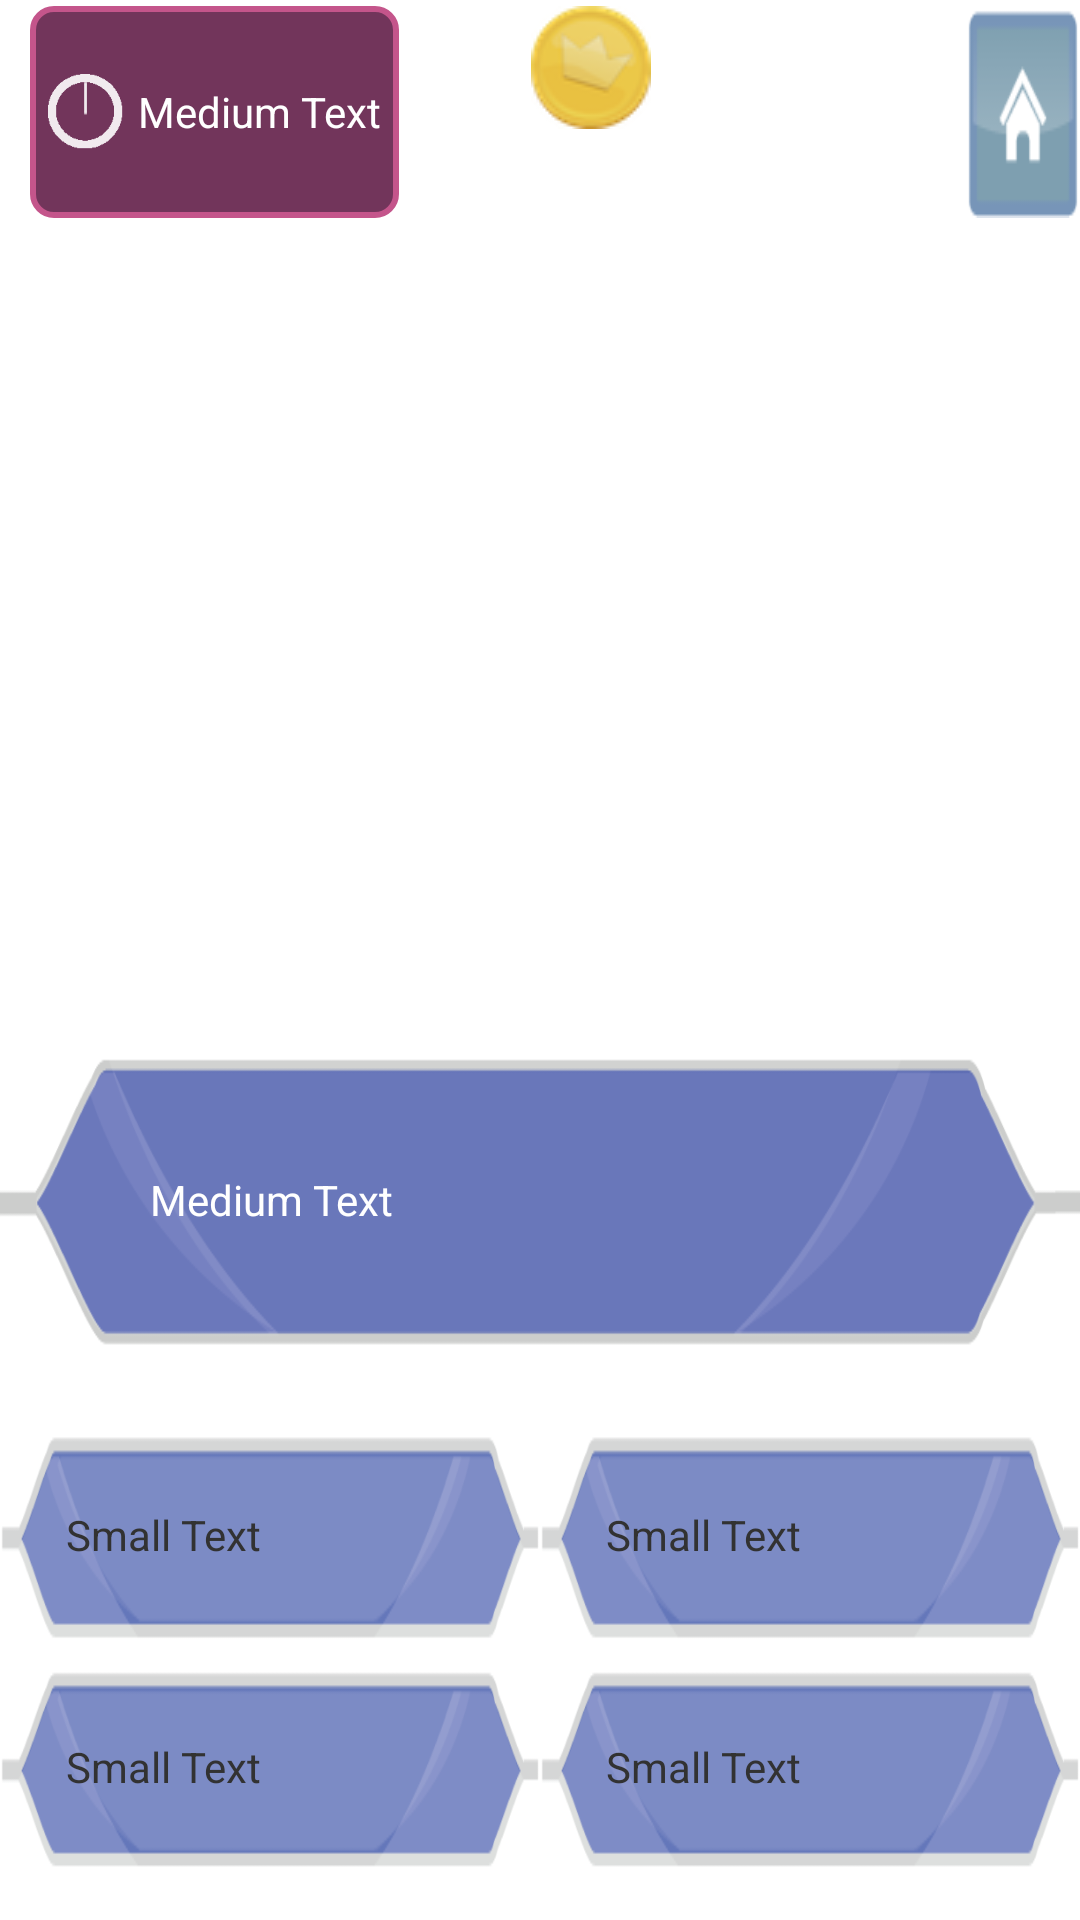

Icons on this 1080 x 1920 Android screen, each with its box as (x1, y1, x2, y2):
Timer Image: (48, 74, 123, 149)
